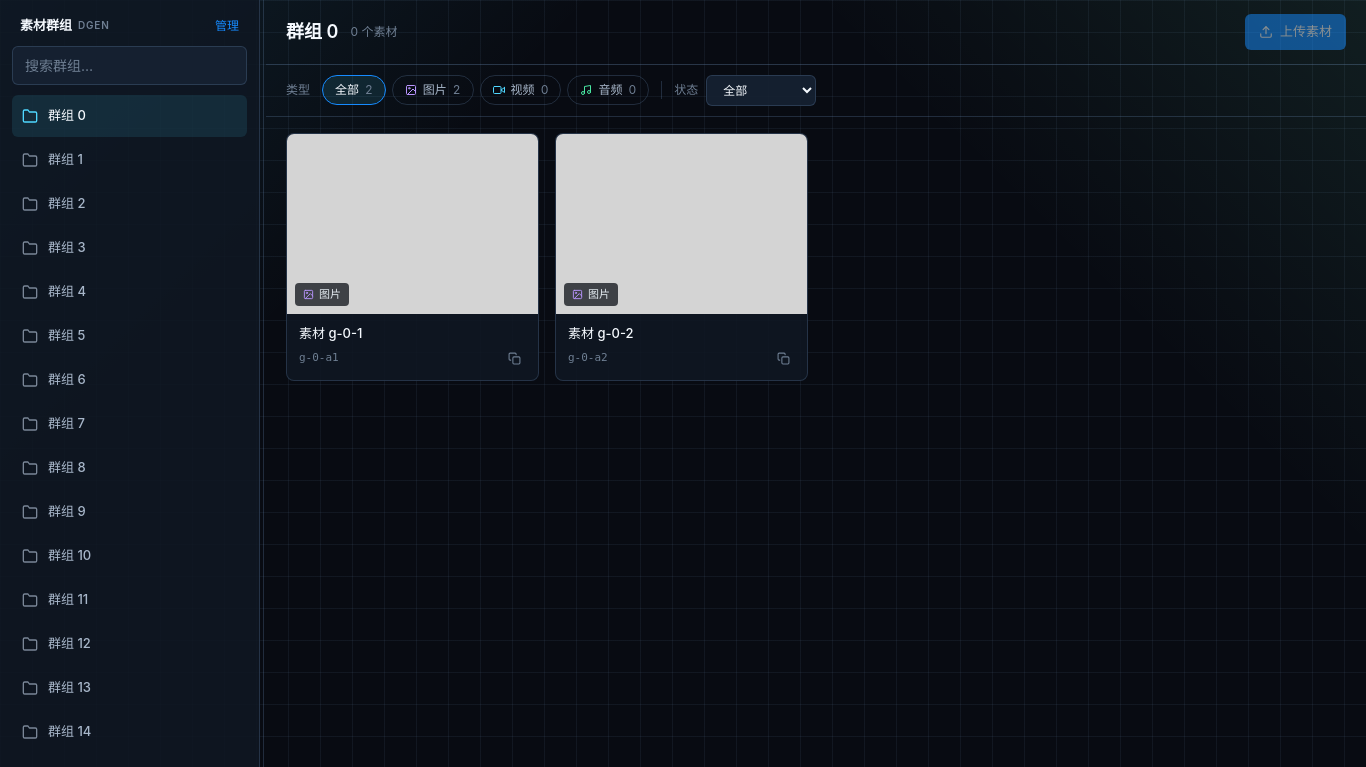
Test case: server-side group search (>1000 groups) › zero server-side matches show 没有匹配的群组, not the empty-tenant CTA
Expected: the element with test id "group-row-g-0" is shown, [12, 94, 247, 136]
Type "没有这种群组" into the search field labelled "搜索群组".
click(130, 65); type("没有这种群组")  # box [12, 46, 247, 84]
Wait 320 ms
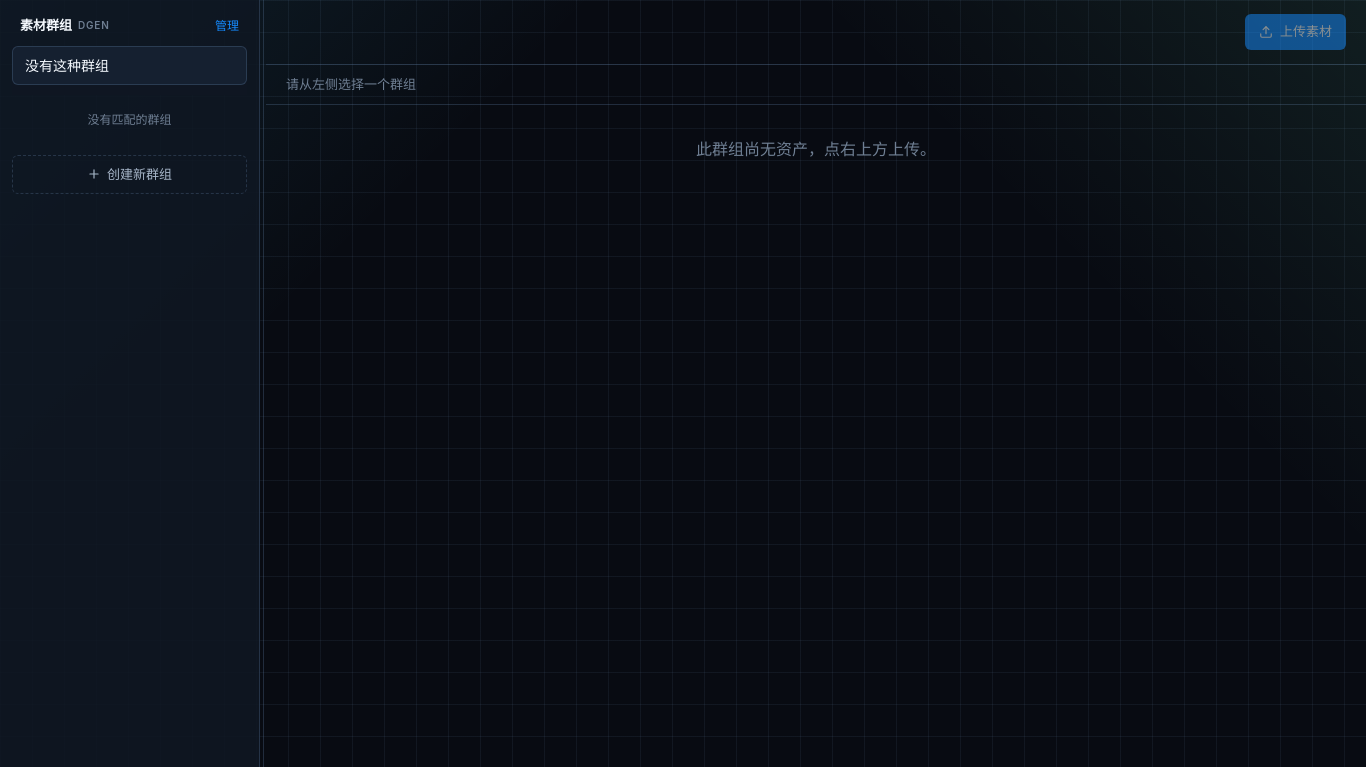
Now the text "没有匹配的群组" is shown, box [88, 112, 172, 126]
